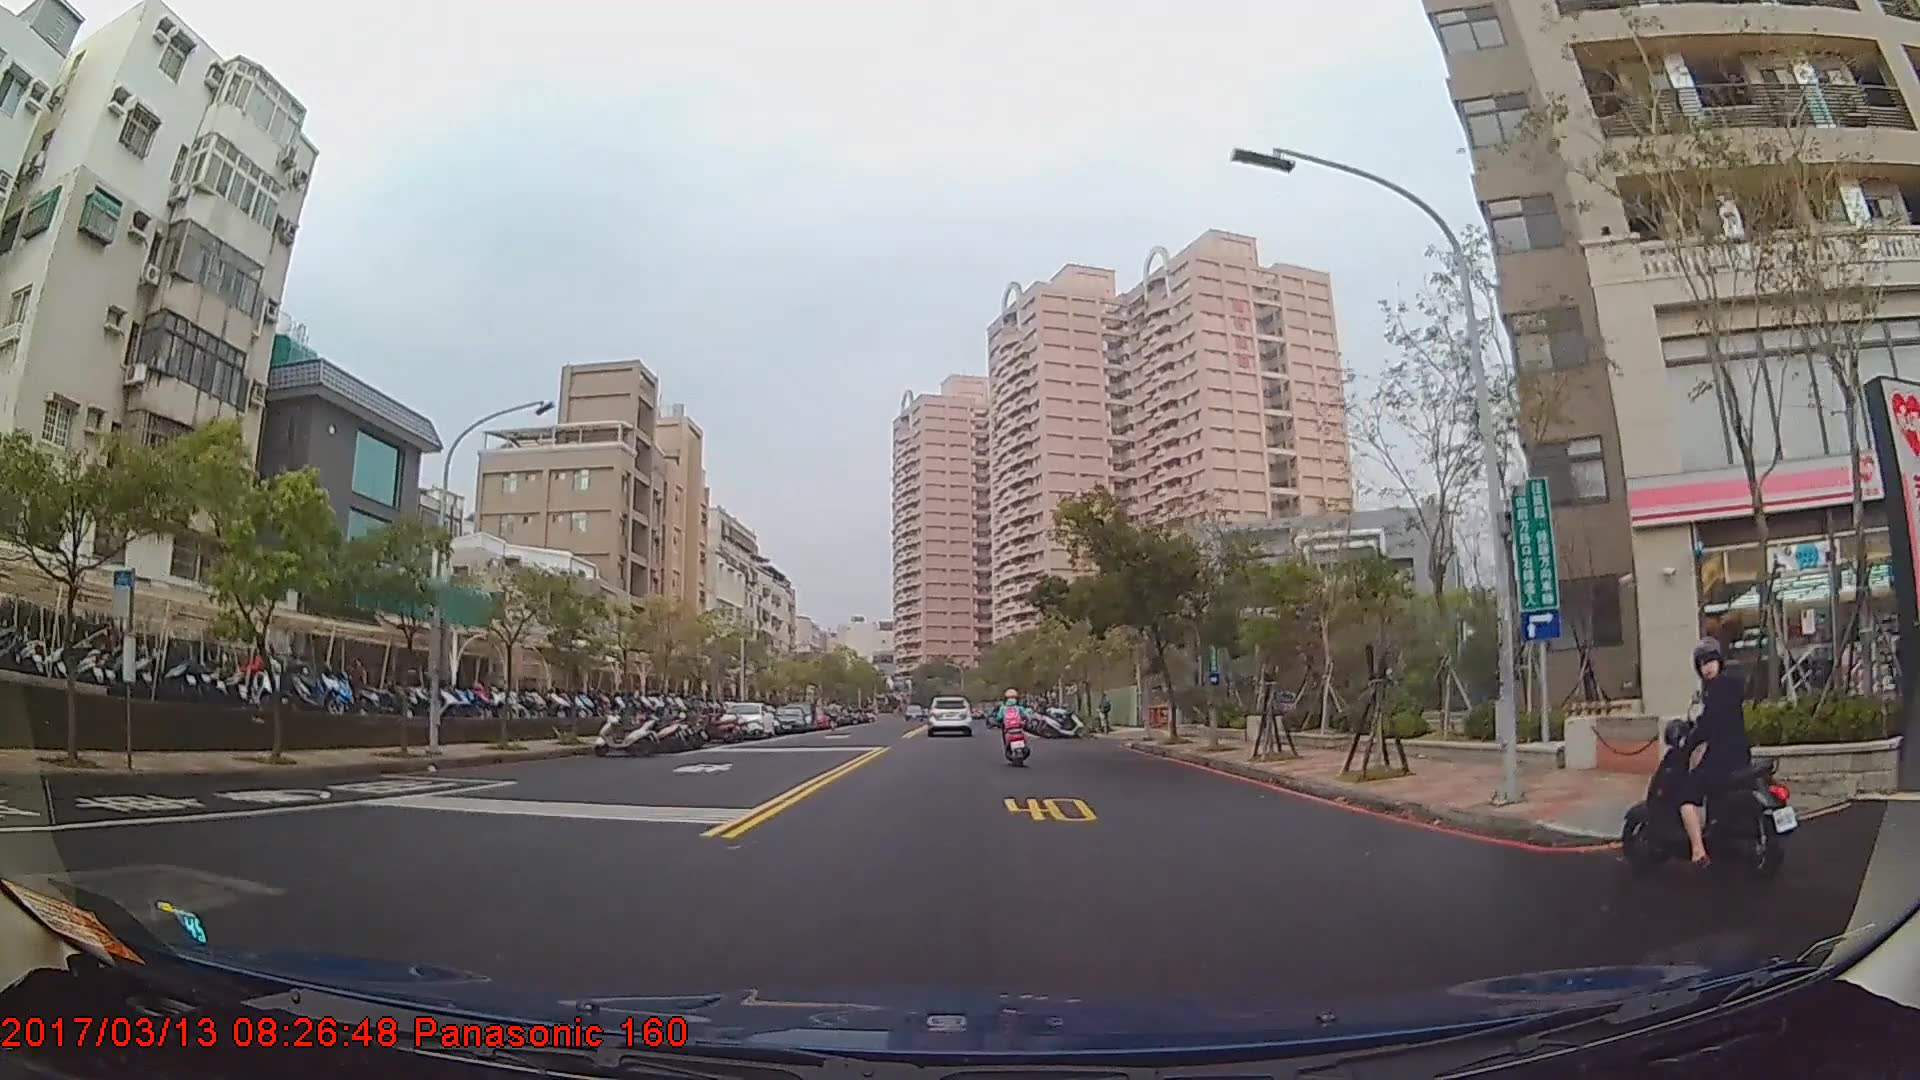rider: (1620, 630, 1810, 871), (997, 688, 1033, 766)
vehicle: (715, 700, 775, 739), (924, 690, 975, 732), (771, 702, 806, 733)
